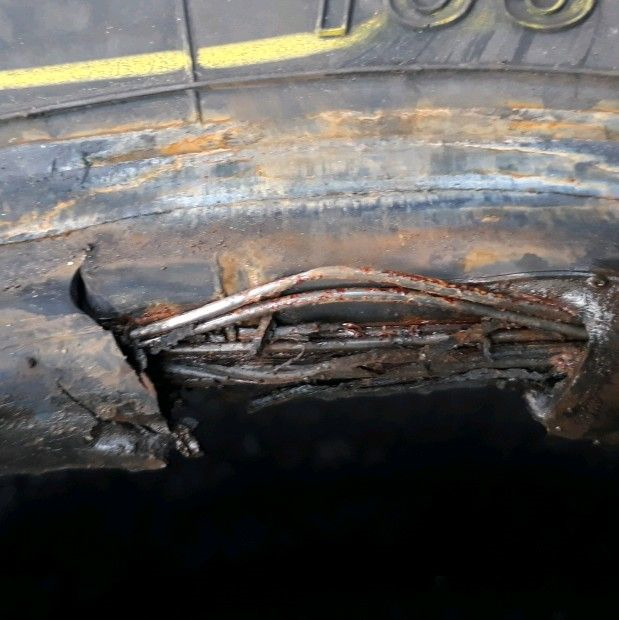bead_damage: (28, 200, 613, 477)
